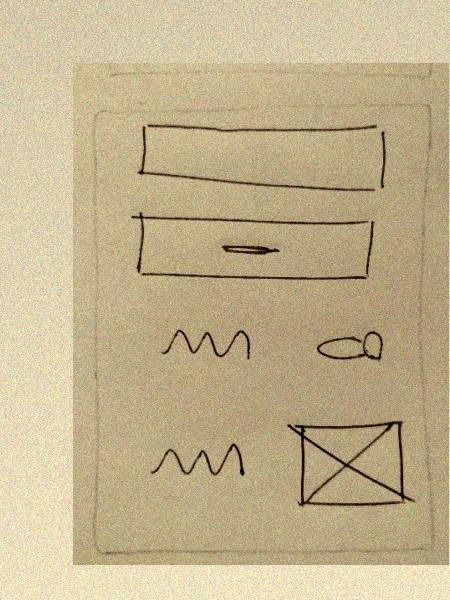button: (129, 210, 383, 294)
image: (283, 418, 421, 509)
switch: (309, 326, 388, 369)
text: (145, 431, 252, 491), (153, 319, 257, 368)
text_input: (136, 117, 391, 202)
